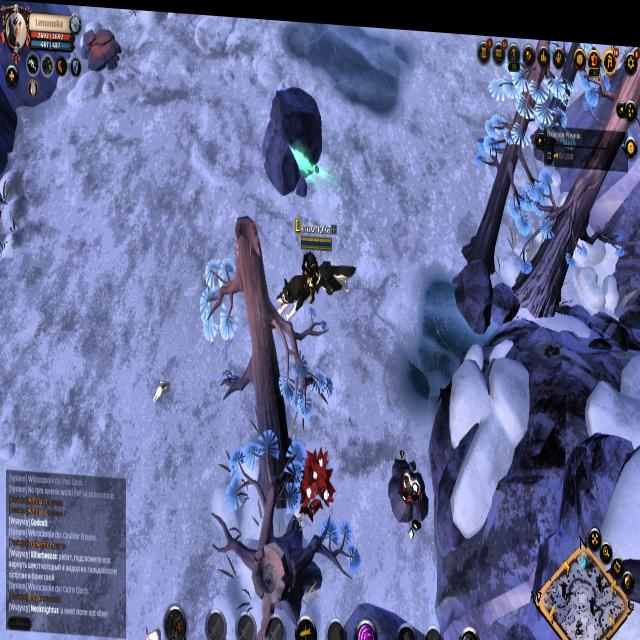fiber tier 5: (298, 440, 335, 520)
